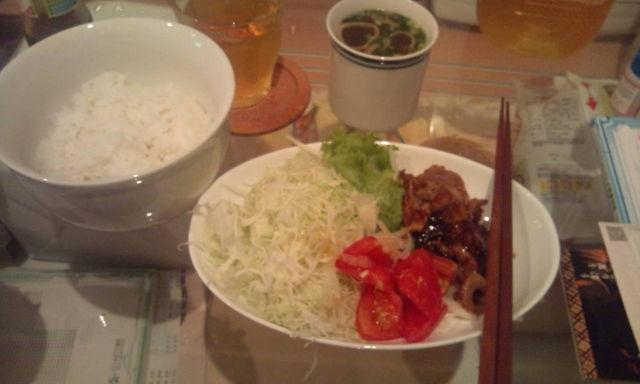rice: (40, 72, 216, 182)
